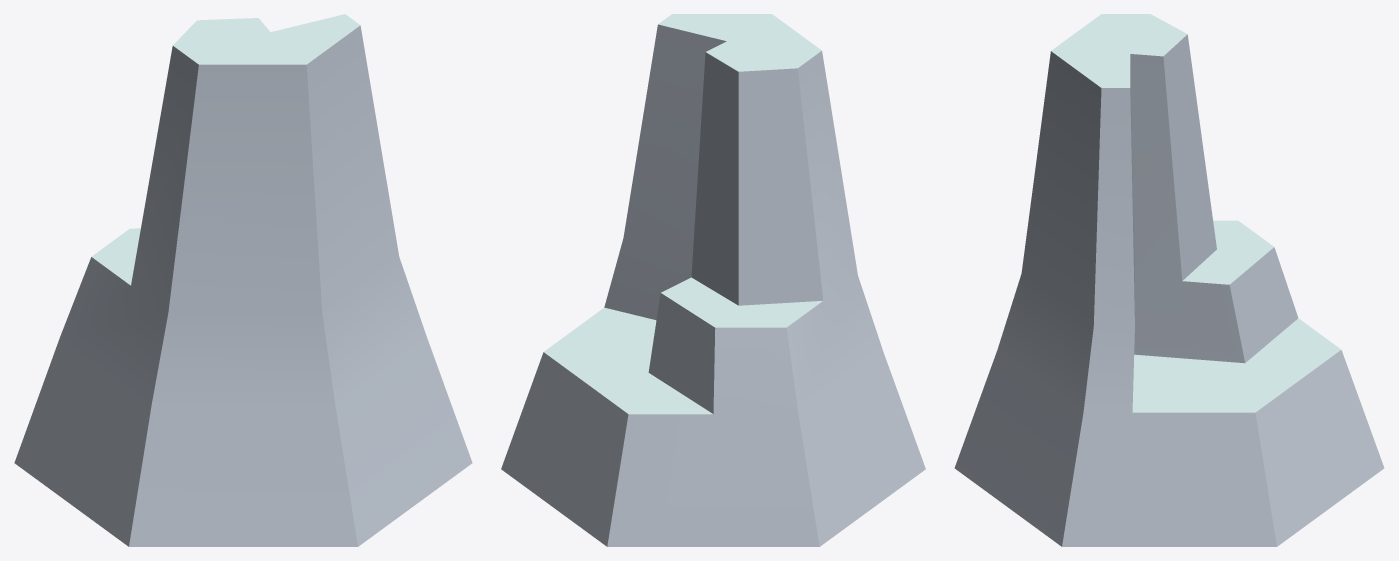
Rendered from rockFormationSmall.glb.
3 views of the same model, side by side, from view 1: azimuth 30°, elevation 25°; view 2: azimuth 150°, elevation 25°; view 3: azimuth 270°, elevation 25° (orthographic). The views are drawn at different scales.
Visible parts, largest first — view 1: rockFormationSmall; view 2: rockFormationSmall; view 3: rockFormationSmall.
Boxes of the visible parts, left/top/right/bottom form: rockFormationSmall: left=14, top=14, right=472, bottom=546; rockFormationSmall: left=501, top=14, right=925, bottom=546; rockFormationSmall: left=954, top=14, right=1384, bottom=546.
Size of the model in its own units: 0.5399 by 0.6674 by 0.6234.
